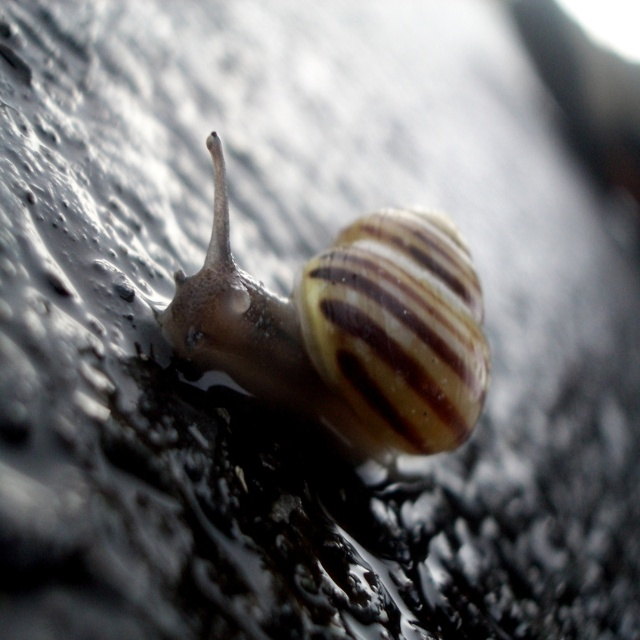Snail: (149, 125, 493, 465)
